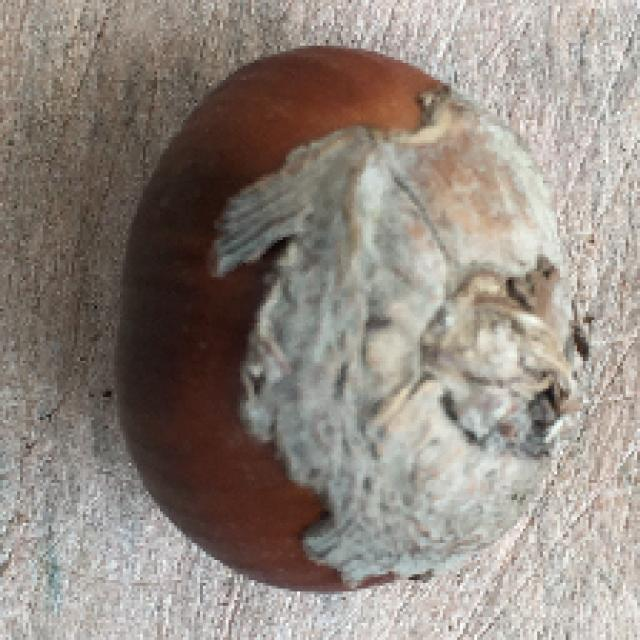damagedHazelnut: (110, 36, 602, 601)
